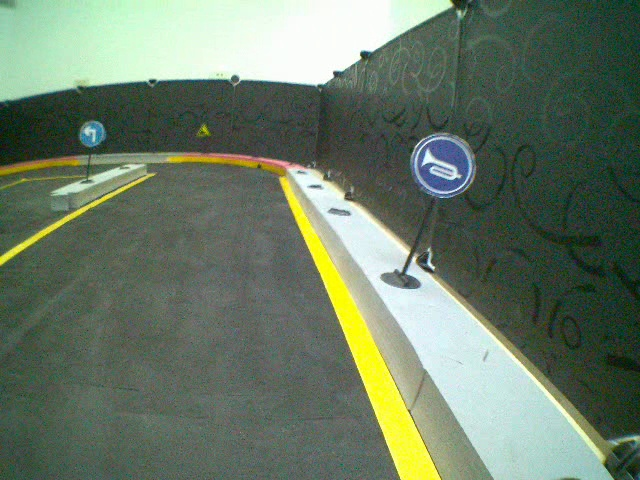fast: (194, 122, 211, 140)
horn: (408, 131, 477, 198)
turn: (79, 119, 106, 147)
